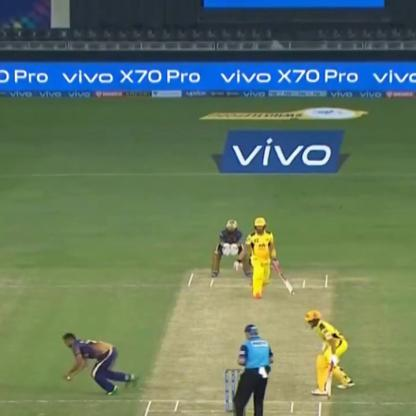ball: (58, 370, 73, 386)
bat: (142, 264, 340, 416)
